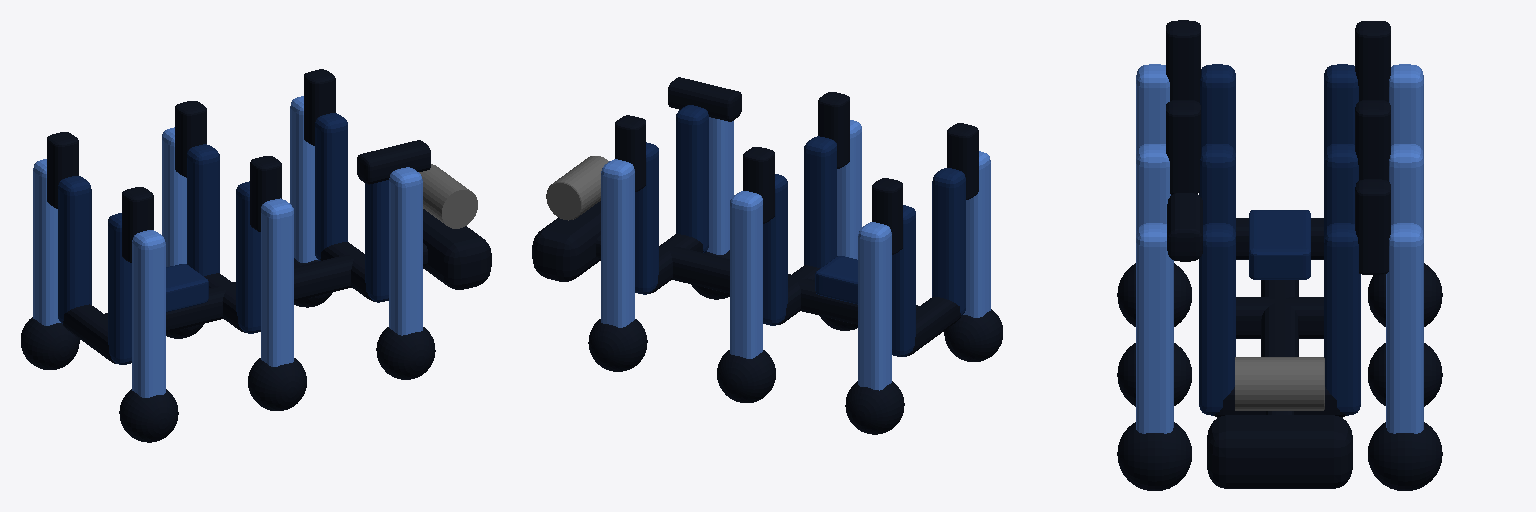
URDF robot description (stick_insect):
<?xml version="1.0"?>
<!-- created with Phobos 0.7 -->
  <robot name="stick_insect">

    <link name="leg11">
    </link>

    <link name="leg12">
      <inertial>
        <origin xyz="0.15 0 0" rpy="0 0 0"/>
        <mass value="0.5"/>
        <inertia ixx="0.00024" ixy="-3e-05" ixz="4e-05" iyy="0.00514" iyz="0" izz="0.00515"/>
      </inertial>
      <visual name="visual_leg1_upper">
        <origin xyz="0.15 0 0" rpy="-1.5708 0 0"/>
        <geometry>
          <mesh filename="../meshes/obj/upper_leg.obj" scale="1.0 1.0 1.0"/>
        </geometry>
        <material name="upper_leg"/>
      </visual>
      <collision name="collision_leg1_upper">
        <origin xyz="0.12867 0 0" rpy="-1.5708 0 0"/>
        <geometry>
          <box size="0.23617 0.06 0.06"/>
        </geometry>
      </collision>
    </link>

    <link name="leg13">
      <inertial>
        <origin xyz="0.16667 0 -0.00847" rpy="0 0 0"/>
        <mass value="0.6"/>
        <inertia ixx="0.00052" ixy="0" ixz="-0.00085" iyy="0.01026" iyz="0" izz="0.01004"/>
      </inertial>
      <visual name="visual_leg1_foot">
        <origin xyz="0.4 0 0" rpy="-1.5708 0 1.5708"/>
        <geometry>
          <mesh filename="../meshes/obj/foot.obj" scale="1.0 1.0 1.0"/>
        </geometry>
        <material name="body"/>
      </visual>
      <visual name="visual_leg1_knee">
        <origin xyz="5e-05 2e-05 -0.05082" rpy="1.5708 0 -1.5708"/>
        <geometry>
          <mesh filename="../meshes/obj/knee.obj" scale="1.0 1.0 1.0"/>
        </geometry>
        <material name="body"/>
      </visual>
      <visual name="visual_leg1_lower">
        <origin xyz="0.2 0 0" rpy="-1.5708 0 0"/>
        <geometry>
          <mesh filename="../meshes/obj/lower_leg.obj" scale="1.0 1.0 1.0"/>
        </geometry>
        <material name="lower_leg"/>
      </visual>
      <collision name="collision_leg1_foot">
        <origin xyz="0.4 0 0" rpy="-1.5708 0 0"/>
        <geometry>
          <sphere radius="0.06"/>
        </geometry>
      </collision>
      <collision name="collision_leg1_lower">
        <origin xyz="0.16695 0 0" rpy="-1.5708 0 0"/>
        <geometry>
          <box size="0.27958 0.06 0.06"/>
        </geometry>
      </collision>
    </link>

    <link name="leg21">
    </link>

    <link name="leg22">
      <inertial>
        <origin xyz="0.15 0 0" rpy="0 0 0"/>
        <mass value="0.5"/>
        <inertia ixx="0.00024" ixy="-3e-05" ixz="4e-05" iyy="0.00514" iyz="0" izz="0.00515"/>
      </inertial>
      <visual name="visual_leg2_upper">
        <origin xyz="0.15 0 0" rpy="-1.5708 0 0"/>
        <geometry>
          <mesh filename="../meshes/obj/upper_leg.obj" scale="1.0 1.0 1.0"/>
        </geometry>
        <material name="upper_leg"/>
      </visual>
      <collision name="collision_leg2_upper">
        <origin xyz="0.12867 0 0" rpy="-1.5708 0 0"/>
        <geometry>
          <box size="0.23617 0.06 0.06"/>
        </geometry>
      </collision>
    </link>

    <link name="leg23">
      <inertial>
        <origin xyz="0.16667 0 -0.00809" rpy="0 0 0"/>
        <mass value="0.6"/>
        <inertia ixx="0.00066" ixy="0" ixz="-0.00081" iyy="0.01024" iyz="0" izz="0.00988"/>
      </inertial>
      <visual name="visual_leg2_foot">
        <origin xyz="0.4 0 0" rpy="-1.5708 0 1.5708"/>
        <geometry>
          <mesh filename="../meshes/obj/foot.obj" scale="1.0 1.0 1.0"/>
        </geometry>
        <material name="body"/>
      </visual>
      <visual name="visual_leg2_knee">
        <origin xyz="5e-05 -4e-05 -0.04856" rpy="1.5708 0 0"/>
        <geometry>
          <mesh filename="../meshes/obj/knee.obj" scale="1.0 1.0 1.0"/>
        </geometry>
        <material name="body"/>
      </visual>
      <visual name="visual_leg2_lower">
        <origin xyz="0.2 0 0" rpy="-1.5708 0 0"/>
        <geometry>
          <mesh filename="../meshes/obj/lower_leg.obj" scale="1.0 1.0 1.0"/>
        </geometry>
        <material name="lower_leg"/>
      </visual>
      <collision name="collision_leg2_foot">
        <origin xyz="0.4 0 0" rpy="-1.5708 0 0"/>
        <geometry>
          <sphere radius="0.06"/>
        </geometry>
      </collision>
      <collision name="collision_leg2_lower">
        <origin xyz="0.16695 0 0" rpy="-1.5708 0 0"/>
        <geometry>
          <box size="0.27958 0.06 0.06"/>
        </geometry>
      </collision>
    </link>

    <link name="leg31">
    </link>

    <link name="leg32">
      <inertial>
        <origin xyz="0.15 0 0" rpy="0 0 0"/>
        <mass value="0.5"/>
        <inertia ixx="0.00024" ixy="-3e-05" ixz="4e-05" iyy="0.00514" iyz="0" izz="0.00515"/>
      </inertial>
      <visual name="visual_leg3_upper">
        <origin xyz="0.15 0 0" rpy="-1.5708 0 0"/>
        <geometry>
          <mesh filename="../meshes/obj/upper_leg.obj" scale="1.0 1.0 1.0"/>
        </geometry>
        <material name="upper_leg"/>
      </visual>
      <collision name="collision_leg3_upper">
        <origin xyz="0.12867 0 0" rpy="-1.5708 0 0"/>
        <geometry>
          <box size="0.23617 0.06 0.06"/>
        </geometry>
      </collision>
    </link>

    <link name="leg33">
      <inertial>
        <origin xyz="0.16666 0 -0.00847" rpy="0 0 0"/>
        <mass value="0.6"/>
        <inertia ixx="0.00052" ixy="0" ixz="-0.00085" iyy="0.01026" iyz="0" izz="0.01004"/>
      </inertial>
      <visual name="visual_leg3_foot">
        <origin xyz="0.4 0 0" rpy="-1.5708 0 1.5708"/>
        <geometry>
          <mesh filename="../meshes/obj/foot.obj" scale="1.0 1.0 1.0"/>
        </geometry>
        <material name="body"/>
      </visual>
      <visual name="visual_leg3_knee">
        <origin xyz="-6e-05 2e-05 -0.05082" rpy="1.5708 0 -1.5708"/>
        <geometry>
          <mesh filename="../meshes/obj/knee.obj" scale="1.0 1.0 1.0"/>
        </geometry>
        <material name="body"/>
      </visual>
      <visual name="visual_leg3_lower">
        <origin xyz="0.2 0 0" rpy="-1.5708 0 0"/>
        <geometry>
          <mesh filename="../meshes/obj/lower_leg.obj" scale="1.0 1.0 1.0"/>
        </geometry>
        <material name="lower_leg"/>
      </visual>
      <collision name="collision_leg3_foot">
        <origin xyz="0.4 0 0" rpy="-1.5708 0 0"/>
        <geometry>
          <sphere radius="0.06"/>
        </geometry>
      </collision>
      <collision name="collision_leg3_lower">
        <origin xyz="0.16695 0 0" rpy="-1.5708 0 0"/>
        <geometry>
          <box size="0.27958 0.06 0.06"/>
        </geometry>
      </collision>
    </link>

    <link name="leg41">
    </link>

    <link name="leg42">
      <inertial>
        <origin xyz="0.15 0 0" rpy="0 0 0"/>
        <mass value="0.5"/>
        <inertia ixx="0.00024" ixy="-3e-05" ixz="4e-05" iyy="0.00514" iyz="0" izz="0.00515"/>
      </inertial>
      <visual name="visual_leg4_upper">
        <origin xyz="0.15 0 0" rpy="-1.5708 0 0"/>
        <geometry>
          <mesh filename="../meshes/obj/upper_leg.obj" scale="1.0 1.0 1.0"/>
        </geometry>
        <material name="upper_leg"/>
      </visual>
      <collision name="collision_leg4_upper">
        <origin xyz="0.12867 0 0" rpy="-1.5708 0 0"/>
        <geometry>
          <box size="0.23617 0.06 0.06"/>
        </geometry>
      </collision>
    </link>

    <link name="leg43">
      <inertial>
        <origin xyz="0.16669 -2e-05 -0.00761" rpy="0 0 0"/>
        <mass value="0.6"/>
        <inertia ixx="0.00048" ixy="0" ixz="-0.00076" iyy="0.01021" iyz="0" izz="0.01004"/>
      </inertial>
      <visual name="visual_leg4_foot">
        <origin xyz="0.4 0 0" rpy="-1.5708 0 1.5708"/>
        <geometry>
          <mesh filename="../meshes/obj/foot.obj" scale="1.0 1.0 1.0"/>
        </geometry>
        <material name="body"/>
      </visual>
      <visual name="visual_leg4_knee">
        <origin xyz="0.00016 -0.00015 -0.04568" rpy="-1.5708 0 1.5708"/>
        <geometry>
          <mesh filename="../meshes/obj/knee.obj" scale="1.0 1.0 1.0"/>
        </geometry>
        <material name="body"/>
      </visual>
      <visual name="visual_leg4_lower">
        <origin xyz="0.2 0 0" rpy="-1.5708 0 0"/>
        <geometry>
          <mesh filename="../meshes/obj/lower_leg.obj" scale="1.0 1.0 1.0"/>
        </geometry>
        <material name="lower_leg"/>
      </visual>
      <collision name="collision_leg4_foot">
        <origin xyz="0.4 0 0" rpy="-1.5708 0 0"/>
        <geometry>
          <sphere radius="0.06"/>
        </geometry>
      </collision>
      <collision name="collision_leg4_lower">
        <origin xyz="0.16695 0 0" rpy="-1.5708 0 0"/>
        <geometry>
          <box size="0.27958 0.06 0.06"/>
        </geometry>
      </collision>
    </link>

    <link name="leg51">
    </link>

    <link name="leg52">
      <inertial>
        <origin xyz="0.15 0 0" rpy="0 0 0"/>
        <mass value="0.5"/>
        <inertia ixx="0.00024" ixy="-4e-05" ixz="4e-05" iyy="0.00514" iyz="0" izz="0.00515"/>
      </inertial>
      <visual name="visual_leg5_upper">
        <origin xyz="0.15 0 0" rpy="-1.5708 0 0"/>
        <geometry>
          <mesh filename="../meshes/obj/upper_leg.obj" scale="1.0 1.0 1.0"/>
        </geometry>
        <material name="upper_leg"/>
      </visual>
      <collision name="collision_leg5_upper">
        <origin xyz="0.12867 0 0" rpy="-1.5708 0 0"/>
        <geometry>
          <box size="0.23617 0.06 0.06"/>
        </geometry>
      </collision>
    </link>

    <link name="leg53">
      <inertial>
        <origin xyz="0.16666 0 -0.00847" rpy="0 0 0"/>
        <mass value="0.6"/>
        <inertia ixx="0.00052" ixy="0" ixz="-0.00085" iyy="0.01026" iyz="0" izz="0.01004"/>
      </inertial>
      <visual name="visual_leg5_foot">
        <origin xyz="0.4 0 0" rpy="-1.5708 0 1.5708"/>
        <geometry>
          <mesh filename="../meshes/obj/foot.obj" scale="1.0 1.0 1.0"/>
        </geometry>
        <material name="body"/>
      </visual>
      <visual name="visual_leg5_knee">
        <origin xyz="-6e-05 -5e-05 -0.05082" rpy="1.57081 0 -1.5708"/>
        <geometry>
          <mesh filename="../meshes/obj/knee.obj" scale="1.0 1.0 1.0"/>
        </geometry>
        <material name="body"/>
      </visual>
      <visual name="visual_leg5_lower">
        <origin xyz="0.2 0 0" rpy="-1.5708 0 0"/>
        <geometry>
          <mesh filename="../meshes/obj/lower_leg.obj" scale="1.0 1.0 1.0"/>
        </geometry>
        <material name="lower_leg"/>
      </visual>
      <collision name="collision_leg5_foot">
        <origin xyz="0.4 0 0" rpy="-1.5708 0 0"/>
        <geometry>
          <sphere radius="0.06"/>
        </geometry>
      </collision>
      <collision name="collision_leg5_lower">
        <origin xyz="0.16695 0 0" rpy="-1.5708 0 0"/>
        <geometry>
          <box size="0.27958 0.06 0.06"/>
        </geometry>
      </collision>
    </link>

    <link name="leg61">
    </link>

    <link name="leg62">
      <inertial>
        <origin xyz="0.15 0 0" rpy="0 0 0"/>
        <mass value="0.5"/>
        <inertia ixx="0.00024" ixy="-3e-05" ixz="4e-05" iyy="0.00514" iyz="0" izz="0.00515"/>
      </inertial>
      <visual name="visual_leg6_upper">
        <origin xyz="0.15 0 0" rpy="-1.5708 0 0"/>
        <geometry>
          <mesh filename="../meshes/obj/upper_leg.obj" scale="1.0 1.0 1.0"/>
        </geometry>
        <material name="upper_leg"/>
      </visual>
      <collision name="collision_leg6_upper">
        <origin xyz="0.12867 0 0" rpy="-1.5708 0 0"/>
        <geometry>
          <box size="0.23617 0.06 0.06"/>
        </geometry>
      </collision>
    </link>

    <link name="leg63">
      <inertial>
        <origin xyz="0.16666 0 -0.00761" rpy="0 0 0"/>
        <mass value="0.6"/>
        <inertia ixx="0.00048" ixy="0" ixz="-0.00076" iyy="0.01022" iyz="0" izz="0.01004"/>
      </inertial>
      <visual name="visual_leg6_foot">
        <origin xyz="0.4 0 0" rpy="-1.5708 0 1.5708"/>
        <geometry>
          <mesh filename="../meshes/obj/foot.obj" scale="1.0 1.0 1.0"/>
        </geometry>
        <material name="body"/>
      </visual>
      <visual name="visual_leg6_knee">
        <origin xyz="-6e-05 -6e-05 -0.04568" rpy="-1.5708 0 1.5708"/>
        <geometry>
          <mesh filename="../meshes/obj/knee.obj" scale="1.0 1.0 1.0"/>
        </geometry>
        <material name="body"/>
      </visual>
      <visual name="visual_leg6_lower">
        <origin xyz="0.2 0 0" rpy="-1.5708 0 0"/>
        <geometry>
          <mesh filename="../meshes/obj/lower_leg.obj" scale="1.0 1.0 1.0"/>
        </geometry>
        <material name="lower_leg"/>
      </visual>
      <collision name="collision_leg6_foot">
        <origin xyz="0.4 0 0" rpy="-1.5708 0 0"/>
        <geometry>
          <sphere radius="0.06"/>
        </geometry>
      </collision>
      <collision name="collision_leg6_lower">
        <origin xyz="0.16695 0 0" rpy="-1.5708 0 0"/>
        <geometry>
          <box size="0.27958 0.06 0.06"/>
        </geometry>
      </collision>
    </link>

    <link name="link_velodyne">
      <inertial>
        <origin xyz="0 0 0" rpy="0 0 0"/>
        <mass value="2.0"/>
        <inertia ixx="0.00437" ixy="0" ixz="0" iyy="0.00437" iyz="0" izz="0.00182"/>
      </inertial>
      <visual name="visual_velodyne">
        <origin xyz="0 0 0" rpy="0 0 0"/>
        <geometry>
          <mesh filename="../meshes/obj/velodyne.obj" scale="1.0 1.0 1.0"/>
        </geometry>
        <material name="velodyne"/>
      </visual>
    </link>

    <link name="root">
      <inertial>
        <origin xyz="0.00889 0 0.0062" rpy="0 0 0"/>
        <mass value="18.5"/>
        <inertia ixx="1.32739" ixy="0" ixz="0.01866" iyy="2.62013" iyz="0" izz="2.63639"/>
      </inertial>
      <visual name="visual_body">
        <origin xyz="0 0 0" rpy="0 0 0"/>
        <geometry>
          <mesh filename="../meshes/obj/torso.obj" scale="1.0 1.0 1.0"/>
        </geometry>
        <material name="body"/>
      </visual>
      <visual name="visual_computing_unit">
        <origin xyz="-0.15392 0 0.05731" rpy="0 0 0"/>
        <geometry>
          <mesh filename="../meshes/obj/pc.obj" scale="0.08471 0.05027 0.02624"/>
        </geometry>
        <material name="upper_leg"/>
      </visual>
      <visual name="visual_head">
        <origin xyz="0.50773 0 0" rpy="0 0 1.5708"/>
        <geometry>
          <mesh filename="../meshes/obj/head.obj" scale="1.0 1.0 1.0"/>
        </geometry>
        <material name="body"/>
      </visual>
      <visual name="visual_hip1">
        <origin xyz="0.3 0 0" rpy="0 0 -1.5708"/>
        <geometry>
          <mesh filename="../meshes/obj/hip.obj" scale="1.0 1.0 1.0"/>
        </geometry>
        <material name="body"/>
      </visual>
      <visual name="visual_hip2">
        <origin xyz="0 0 0" rpy="0 0 -1.5708"/>
        <geometry>
          <mesh filename="../meshes/obj/hip.obj" scale="1.0 1.0 1.0"/>
        </geometry>
        <material name="body"/>
      </visual>
      <visual name="visual_hip3">
        <origin xyz="-0.3 0 0" rpy="0 0 -1.5708"/>
        <geometry>
          <mesh filename="../meshes/obj/hip.obj" scale="1.0 1.0 1.0"/>
        </geometry>
        <material name="body"/>
      </visual>
      <visual name="visual_neck">
        <origin xyz="0.4 0 0" rpy="0 0 0"/>
        <geometry>
          <mesh filename="../meshes/obj/neck.obj" scale="0.90762 0.7605 0.7605"/>
        </geometry>
        <material name="body"/>
      </visual>
      <collision name="collision_body">
        <origin xyz="0 0 0" rpy="0 0 0"/>
        <geometry>
          <box size="0.66 0.06 0.06"/>
        </geometry>
      </collision>
      <collision name="collision_head">
        <origin xyz="0.51233 0 0" rpy="0 0 1.5708"/>
        <geometry>
          <box size="0.22412 0.09 0.09"/>
        </geometry>
      </collision>
      <collision name="collision_neck">
        <origin xyz="0.39543 0 0" rpy="0 0 0"/>
        <geometry>
          <box size="0.09605 0.06 0.06"/>
        </geometry>
      </collision>
    </link>

    <joint name="leg11" type="revolute">
      <origin xyz="0.3 0.1 0" rpy="-1.5708 3.14159 0"/>
      <parent link="root"/>
      <child link="leg11"/>
      <axis xyz="0 -1.0 0"/>
      <limit lower="-3.14" upper="3.14" effort="60.0" velocity="3.14"/>
    </joint>

    <joint name="leg12" type="revolute">
      <origin xyz="0 0 0" rpy="0 0 1.5708"/>
      <parent link="leg11"/>
      <child link="leg12"/>
      <axis xyz="0 0 1.0"/>
      <limit lower="-3.14" upper="3.14" effort="60.0" velocity="3.14"/>
    </joint>

    <joint name="leg13" type="revolute">
      <origin xyz="0.3 0 0.1" rpy="0 0 -3.14159"/>
      <parent link="leg12"/>
      <child link="leg13"/>
      <axis xyz="0 0 1.0"/>
      <limit lower="-3.14" upper="3.14" effort="60.0" velocity="3.14"/>
    </joint>

    <joint name="leg21" type="revolute">
      <origin xyz="0.3 -0.1 0" rpy="1.5708 0 0"/>
      <parent link="root"/>
      <child link="leg21"/>
      <axis xyz="0 -1.0 0"/>
      <limit lower="-3.14" upper="3.14" effort="60.0" velocity="3.14"/>
    </joint>

    <joint name="leg22" type="revolute">
      <origin xyz="0 0 0" rpy="0 0 1.5708"/>
      <parent link="leg21"/>
      <child link="leg22"/>
      <axis xyz="0 0 1.0"/>
      <limit lower="-3.14" upper="3.14" effort="60.0" velocity="3.14"/>
    </joint>

    <joint name="leg23" type="revolute">
      <origin xyz="0.3 0 0.1" rpy="0 0 -3.14159"/>
      <parent link="leg22"/>
      <child link="leg23"/>
      <axis xyz="0 0 1.0"/>
      <limit lower="-3.14" upper="3.14" effort="60.0" velocity="3.14"/>
    </joint>

    <joint name="leg31" type="revolute">
      <origin xyz="0 0.1 0" rpy="-1.5708 3.14159 0"/>
      <parent link="root"/>
      <child link="leg31"/>
      <axis xyz="0 -1.0 0"/>
      <limit lower="-3.14" upper="3.14" effort="60.0" velocity="3.14"/>
    </joint>

    <joint name="leg32" type="revolute">
      <origin xyz="0 0 0" rpy="0 0 1.5708"/>
      <parent link="leg31"/>
      <child link="leg32"/>
      <axis xyz="0 0 1.0"/>
      <limit lower="-3.14" upper="3.14" effort="60.0" velocity="3.14"/>
    </joint>

    <joint name="leg33" type="revolute">
      <origin xyz="0.3 0 0.1" rpy="0 0 3.14159"/>
      <parent link="leg32"/>
      <child link="leg33"/>
      <axis xyz="0 0 1.0"/>
      <limit lower="-3.14" upper="3.14" effort="60.0" velocity="3.14"/>
    </joint>

    <joint name="leg41" type="revolute">
      <origin xyz="0 -0.1 0" rpy="1.5708 0 0"/>
      <parent link="root"/>
      <child link="leg41"/>
      <axis xyz="0 -1.0 0"/>
      <limit lower="-3.14" upper="3.14" effort="60.0" velocity="3.14"/>
    </joint>

    <joint name="leg42" type="revolute">
      <origin xyz="0 0 0" rpy="0 0 1.5708"/>
      <parent link="leg41"/>
      <child link="leg42"/>
      <axis xyz="0 0 1.0"/>
      <limit lower="-3.14" upper="3.14" effort="60.0" velocity="3.14"/>
    </joint>

    <joint name="leg43" type="revolute">
      <origin xyz="0.3 0 0.1" rpy="0 0 -3.14159"/>
      <parent link="leg42"/>
      <child link="leg43"/>
      <axis xyz="0 0 1.0"/>
      <limit lower="-3.14" upper="3.14" effort="60.0" velocity="3.14"/>
    </joint>

    <joint name="leg51" type="revolute">
      <origin xyz="-0.3 0.1 0" rpy="-1.5708 3.14159 0"/>
      <parent link="root"/>
      <child link="leg51"/>
      <axis xyz="0 -1.0 0"/>
      <limit lower="-3.14" upper="3.14" effort="60.0" velocity="3.14"/>
    </joint>

    <joint name="leg52" type="revolute">
      <origin xyz="0 0 0" rpy="0 0 1.5708"/>
      <parent link="leg51"/>
      <child link="leg52"/>
      <axis xyz="0 0 1.0"/>
      <limit lower="-3.14" upper="3.14" effort="60.0" velocity="3.14"/>
    </joint>

    <joint name="leg53" type="revolute">
      <origin xyz="0.3 0 0.1" rpy="0 0 -3.14158"/>
      <parent link="leg52"/>
      <child link="leg53"/>
      <axis xyz="0 0 1.0"/>
      <limit lower="-3.14" upper="3.14" effort="60.0" velocity="3.14"/>
    </joint>

    <joint name="leg61" type="revolute">
      <origin xyz="-0.3 -0.1 0" rpy="1.5708 0 0"/>
      <parent link="root"/>
      <child link="leg61"/>
      <axis xyz="0 -1.0 0"/>
      <limit lower="-3.14" upper="3.14" effort="60.0" velocity="3.14"/>
    </joint>

    <joint name="leg62" type="revolute">
      <origin xyz="0 0 0" rpy="0 0 1.5708"/>
      <parent link="leg61"/>
      <child link="leg62"/>
      <axis xyz="0 0 1.0"/>
      <limit lower="-3.14" upper="3.14" effort="60.0" velocity="3.14"/>
    </joint>

    <joint name="leg63" type="revolute">
      <origin xyz="0.3 0 0.1" rpy="0 0 -3.14159"/>
      <parent link="leg62"/>
      <child link="leg63"/>
      <axis xyz="0 0 1.0"/>
      <limit lower="-3.14" upper="3.14" effort="60.0" velocity="3.14"/>
    </joint>

    <joint name="link_velodyne" type="fixed">
      <origin xyz="0.5 0 0.11658" rpy="0 0 0"/>
      <parent link="root"/>
      <child link="link_velodyne"/>
    </joint>

    <material name="body">
      <color rgba="0.07902 0.10058 0.14757 1.0"/>
    </material>

    <material name="lower_leg">
      <color rgba="0.35052 0.51641 0.8 1.0"/>
    </material>

    <material name="upper_leg">
      <color rgba="0.10054 0.1863 0.34339 1.0"/>
    </material>

    <material name="velodyne">
      <color rgba="0.42216 0.42216 0.42216 1.0"/>
    </material>

  </robot>

--- Render facts (derived) ---
3 views of the same robot in one strip: view 1: azimuth 30°, elevation 25°; view 2: azimuth 150°, elevation 25°; view 3: azimuth 270°, elevation 25° (orthographic).
Robot: stick_insect — 20 links, 19 joints (18 revolute, 1 fixed); root link root; default pose: all joints at 0.
Links seen in each view (by area): view 1: root, leg23, leg63, leg43, leg53, leg13, leg33, leg52, leg12, leg32, leg42, leg62 (+2 smaller); view 2: root, leg13, leg53, leg33, leg63, leg23, leg43, leg62, leg22, leg42, leg32, leg12 (+2 smaller); view 3: root, leg13, leg23, leg43, leg33, leg53, leg63, leg22, leg12, link_velodyne, leg62, leg42 (+2 smaller).
Boxes of the visible links, box(x1,y1,x2,y2) form: root: box(63, 209, 491, 363); leg23: box(357, 140, 435, 379); leg63: box(119, 187, 178, 442); leg43: box(248, 156, 306, 410); leg53: box(21, 132, 79, 369); leg13: box(290, 69, 335, 307); leg33: box(162, 101, 206, 338); leg52: box(58, 176, 91, 323); leg12: box(315, 113, 347, 260); leg32: box(187, 144, 219, 275); leg42: box(236, 181, 260, 333); leg62: box(108, 213, 131, 364); root: box(532, 201, 960, 356); leg13: box(588, 115, 647, 371); leg53: box(845, 178, 904, 434); leg33: box(717, 147, 775, 402); leg63: box(944, 123, 1002, 361); leg23: box(668, 77, 741, 299); leg43: box(818, 92, 861, 330); leg62: box(932, 168, 965, 315); leg22: box(676, 105, 708, 252); leg42: box(804, 136, 836, 267); leg32: box(763, 174, 787, 325); leg12: box(635, 142, 658, 294); root: box(1207, 210, 1352, 488); leg13: box(1355, 179, 1442, 490); leg23: box(1117, 193, 1202, 490); leg43: box(1117, 100, 1200, 406); leg33: box(1355, 100, 1442, 406); leg53: box(1355, 21, 1442, 326); leg63: box(1117, 20, 1200, 326); leg22: box(1199, 223, 1235, 415); leg12: box(1324, 223, 1360, 415); link_velodyne: box(1235, 357, 1324, 410); leg62: box(1200, 64, 1235, 152); leg42: box(1199, 144, 1235, 231).
Bounding box of the posed robot: 0.9216 × 0.52 × 0.5356 m (x, y, z).
Meshes: 10 distinct files referenced, 32 mesh visuals loaded (10 OBJ).